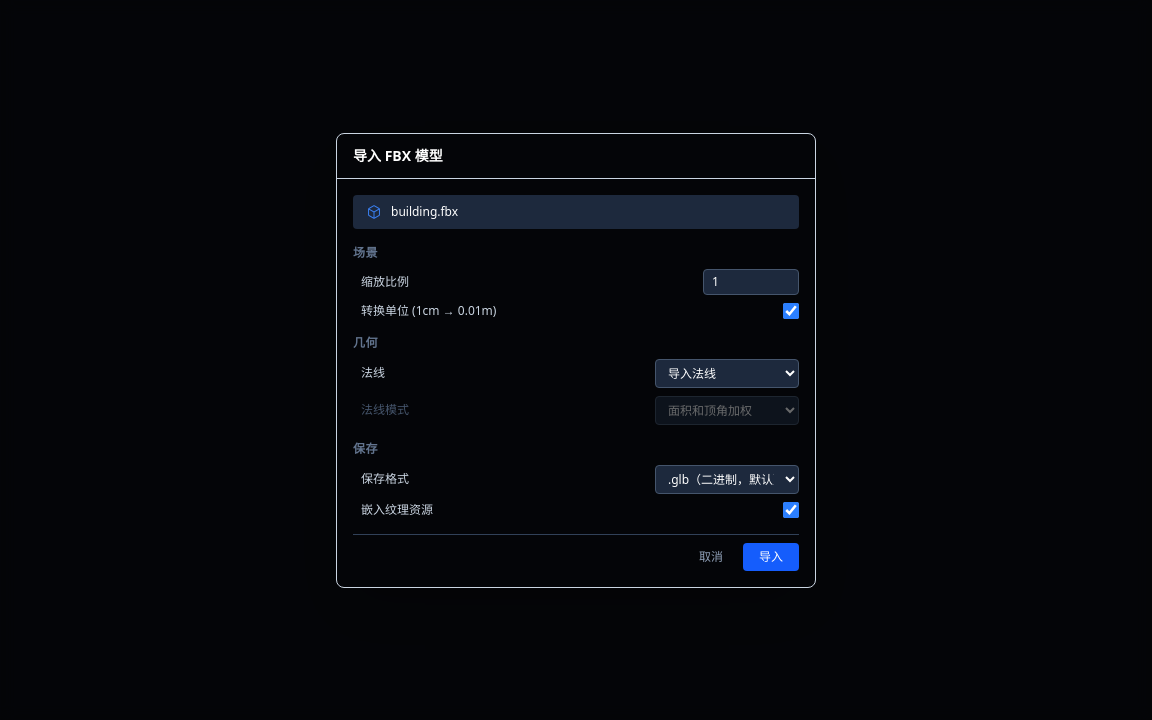
Scenario: FBXImportDialog › enables normalsMode select when normals is changed to "calculate"
The width and height of the screenshot is (1152, 720).
Step 1. Select "计算法线" in the 1st dropdown showing "导入法线" → {"x": 727, "y": 373}, box [655,358,799,388]
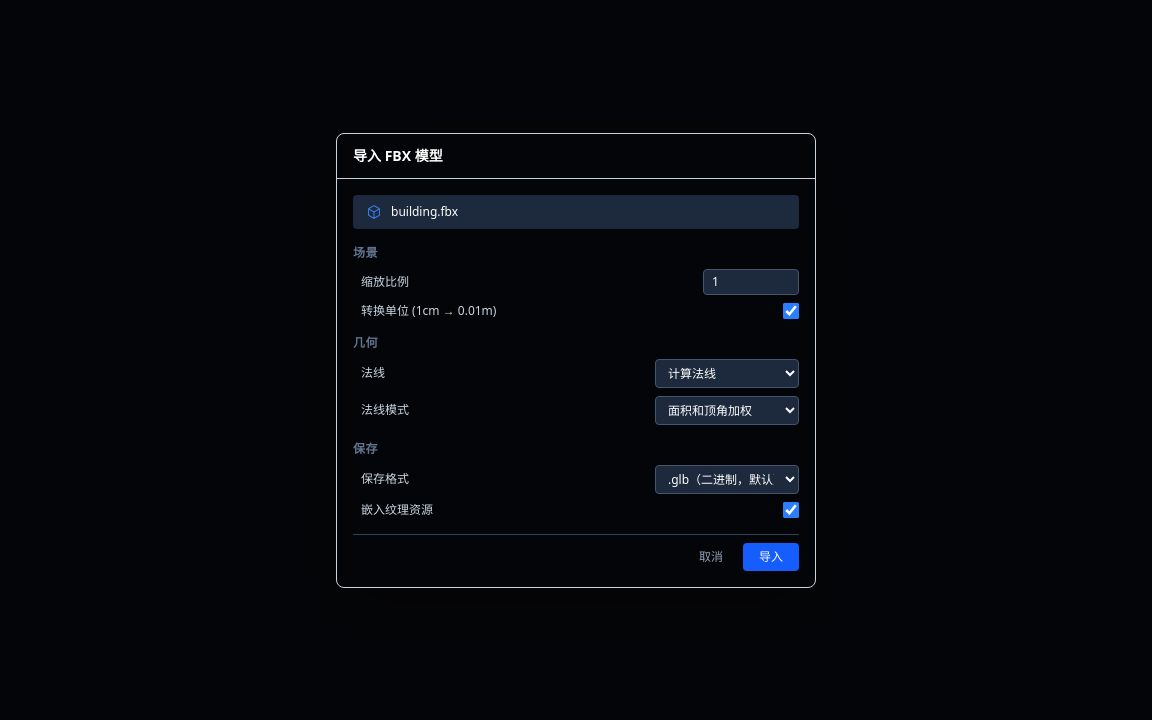
Expected: the dropdown showing "面积和顶角加权" in the row of "法线模式" is enabled, [655,396,799,424]
